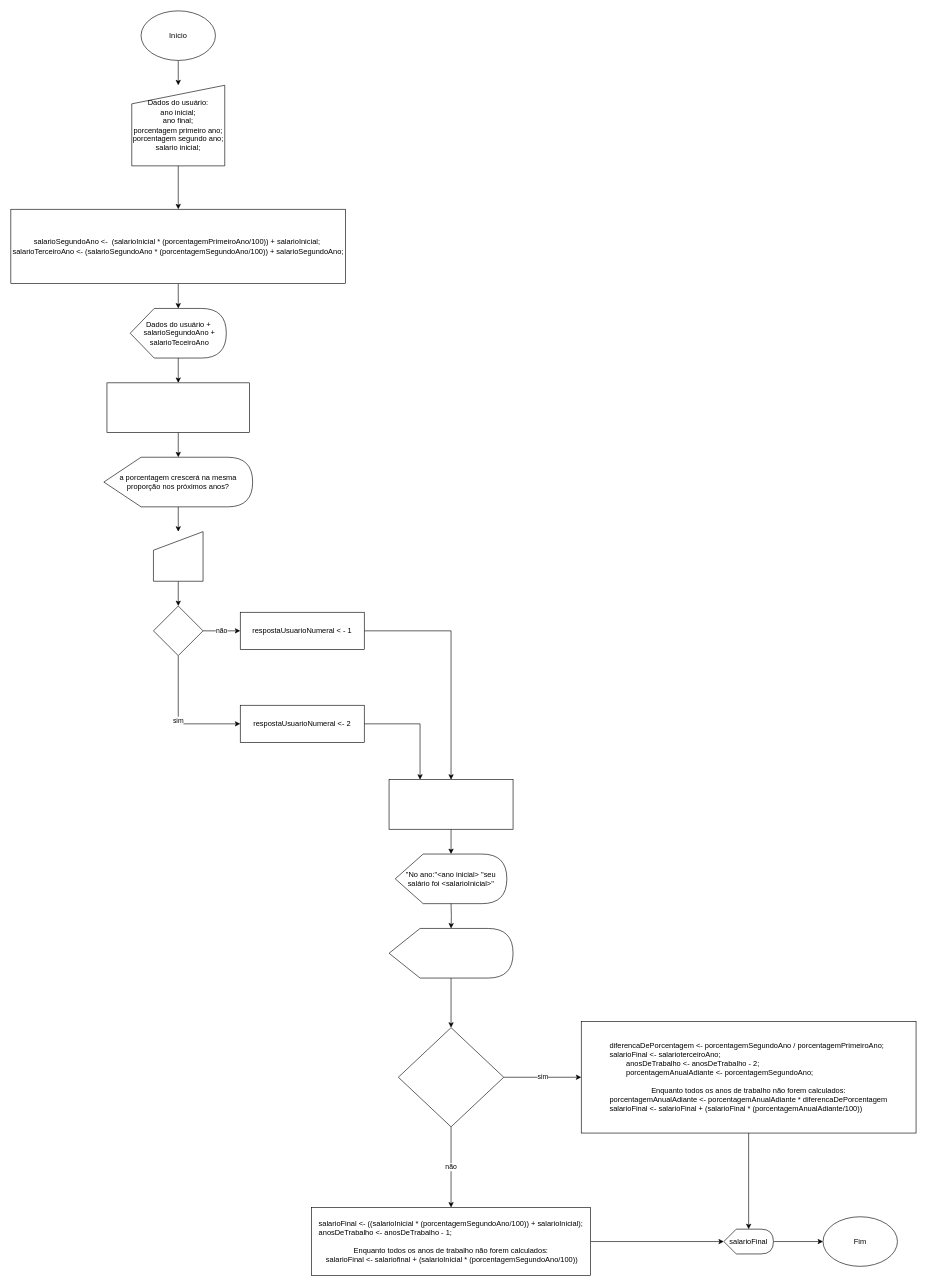
Image size: 927x1287. Some labels were removed from this diagram. Here are the shapes that lost their labels. From the top down, the box of each, then its label:
(106, 382, 250, 432): anosDeTrabalho <- anoFinal - anoInicial;
(153, 531, 203, 581): Resposta do Usuário
(153, 605, 203, 656): resposta
(388, 779, 513, 829): anoTeceiro <- anoInicial + 2
(388, 928, 513, 978): "No ano:"<ano inicial + 1> "seu salário foi <salarioSegundoAno>"
(398, 1027, 504, 1127): respostaUsuarioNumeral = 2?
